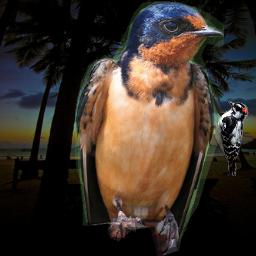Swallow: (75, 1, 224, 256)
Woodpecker: (213, 100, 249, 176)
